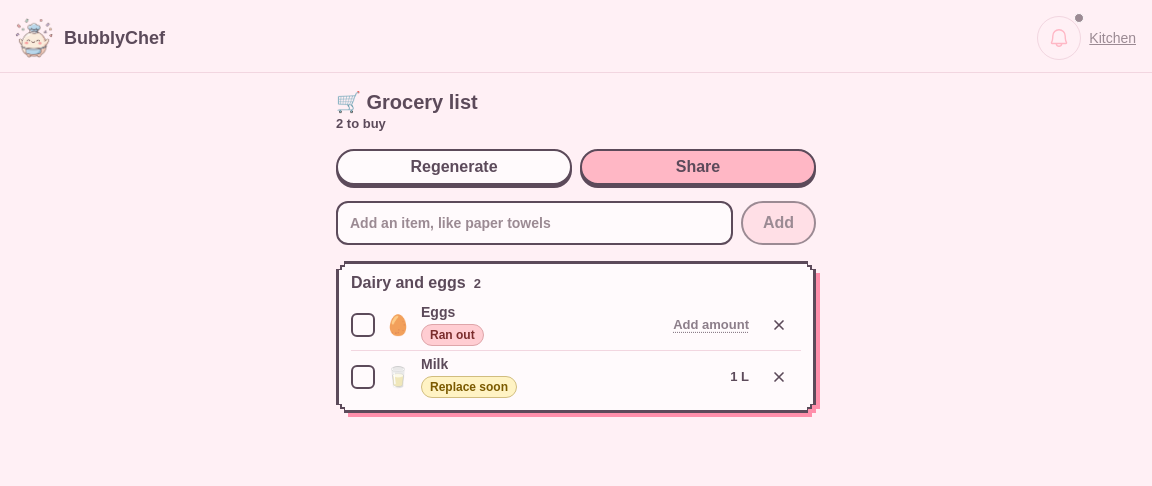
it: /grocery: editing › edits a quantity and unit in place and keeps the edit
Click the button with aria-label "edit amount of eggs" at [711, 324], box [665, 302, 757, 346]
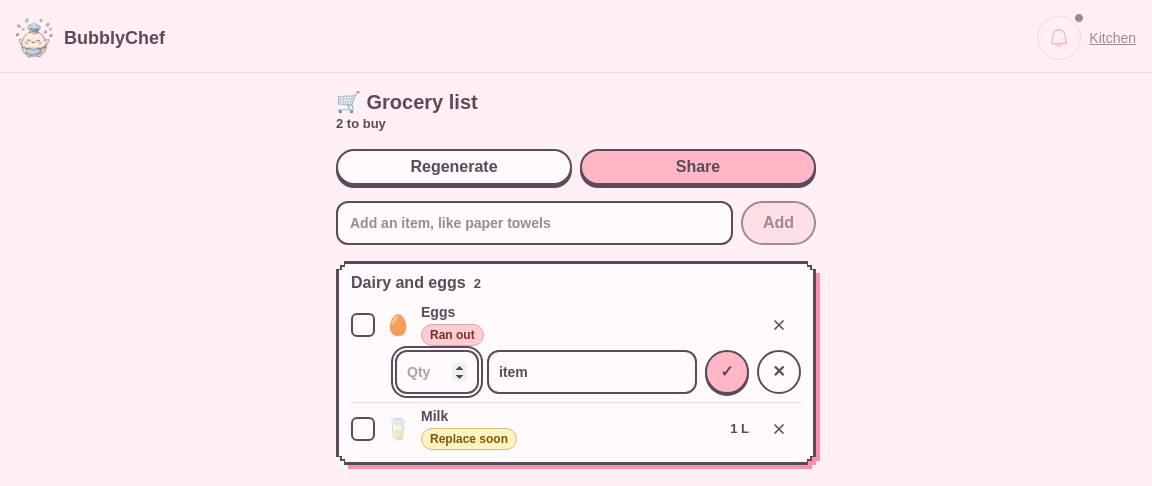
Type "2" into the number field named "quantity of eggs" at [437, 372], box [395, 350, 479, 394]
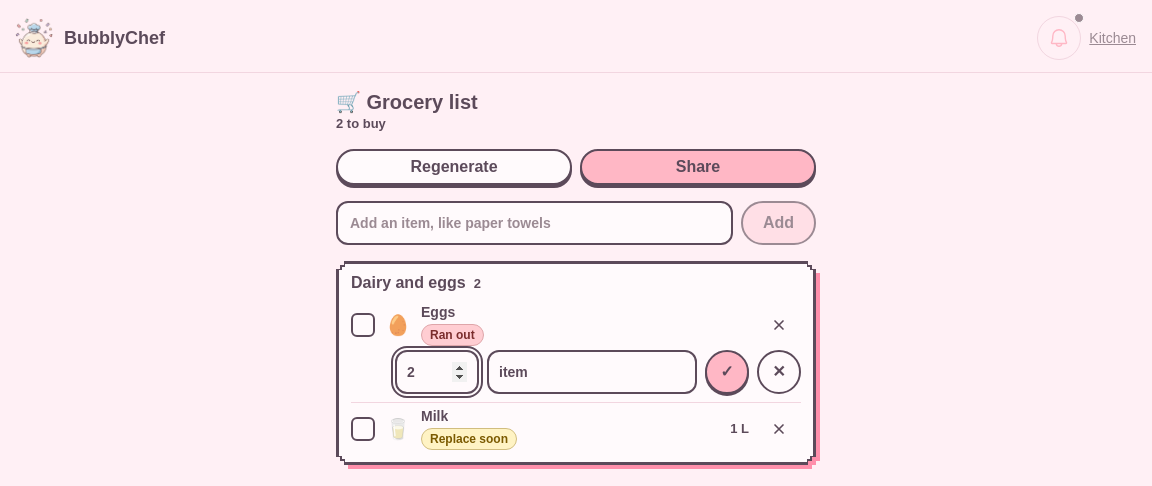
Replace the text in the field named "unit for eggs" with "cartons" at [592, 372], box [487, 350, 697, 394]
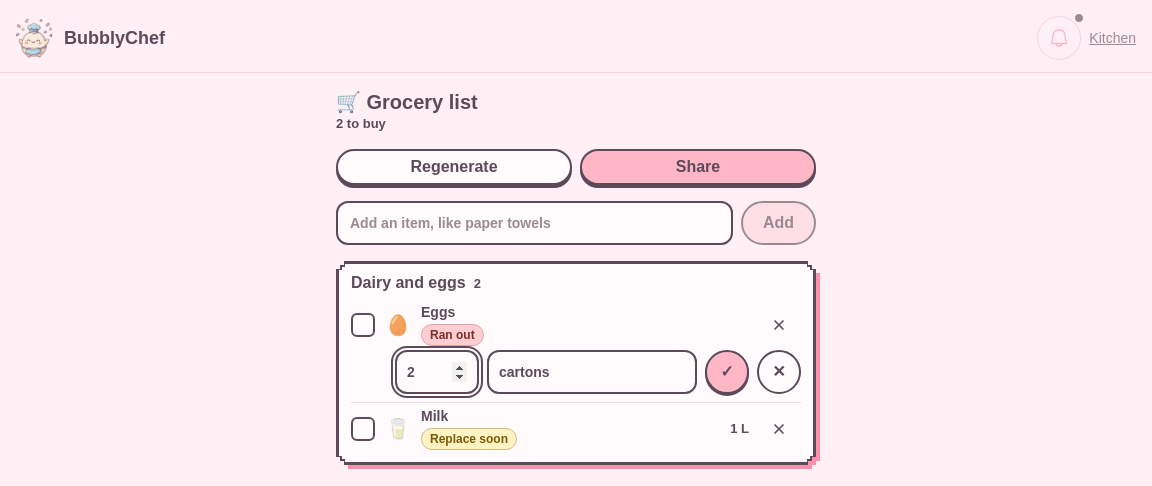
Click the button named "save amount of eggs" at [727, 372], box [705, 350, 749, 394]
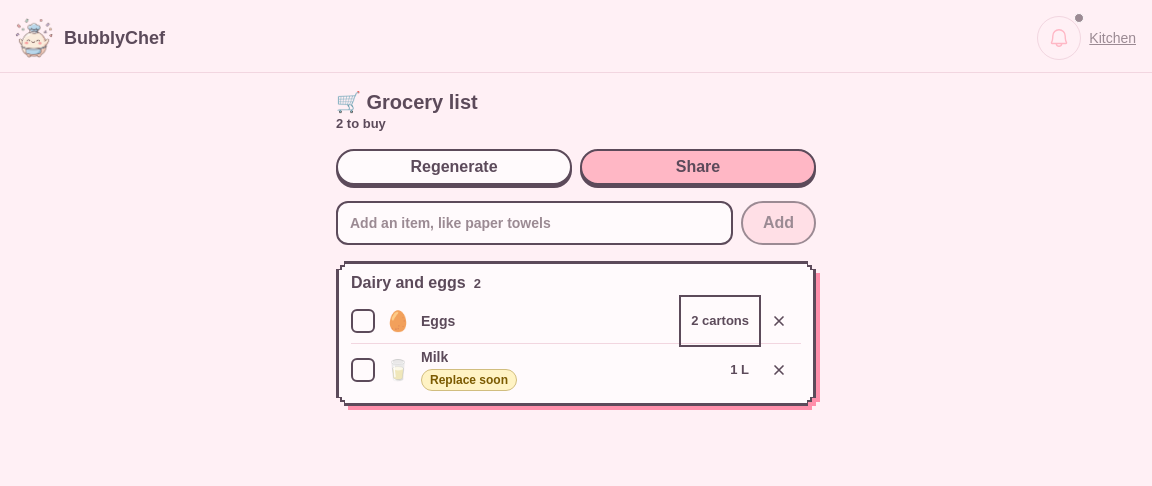
Expected: the button with aria-label "edit amount of eggs" reads "2 cartons", [683, 299, 757, 343]
